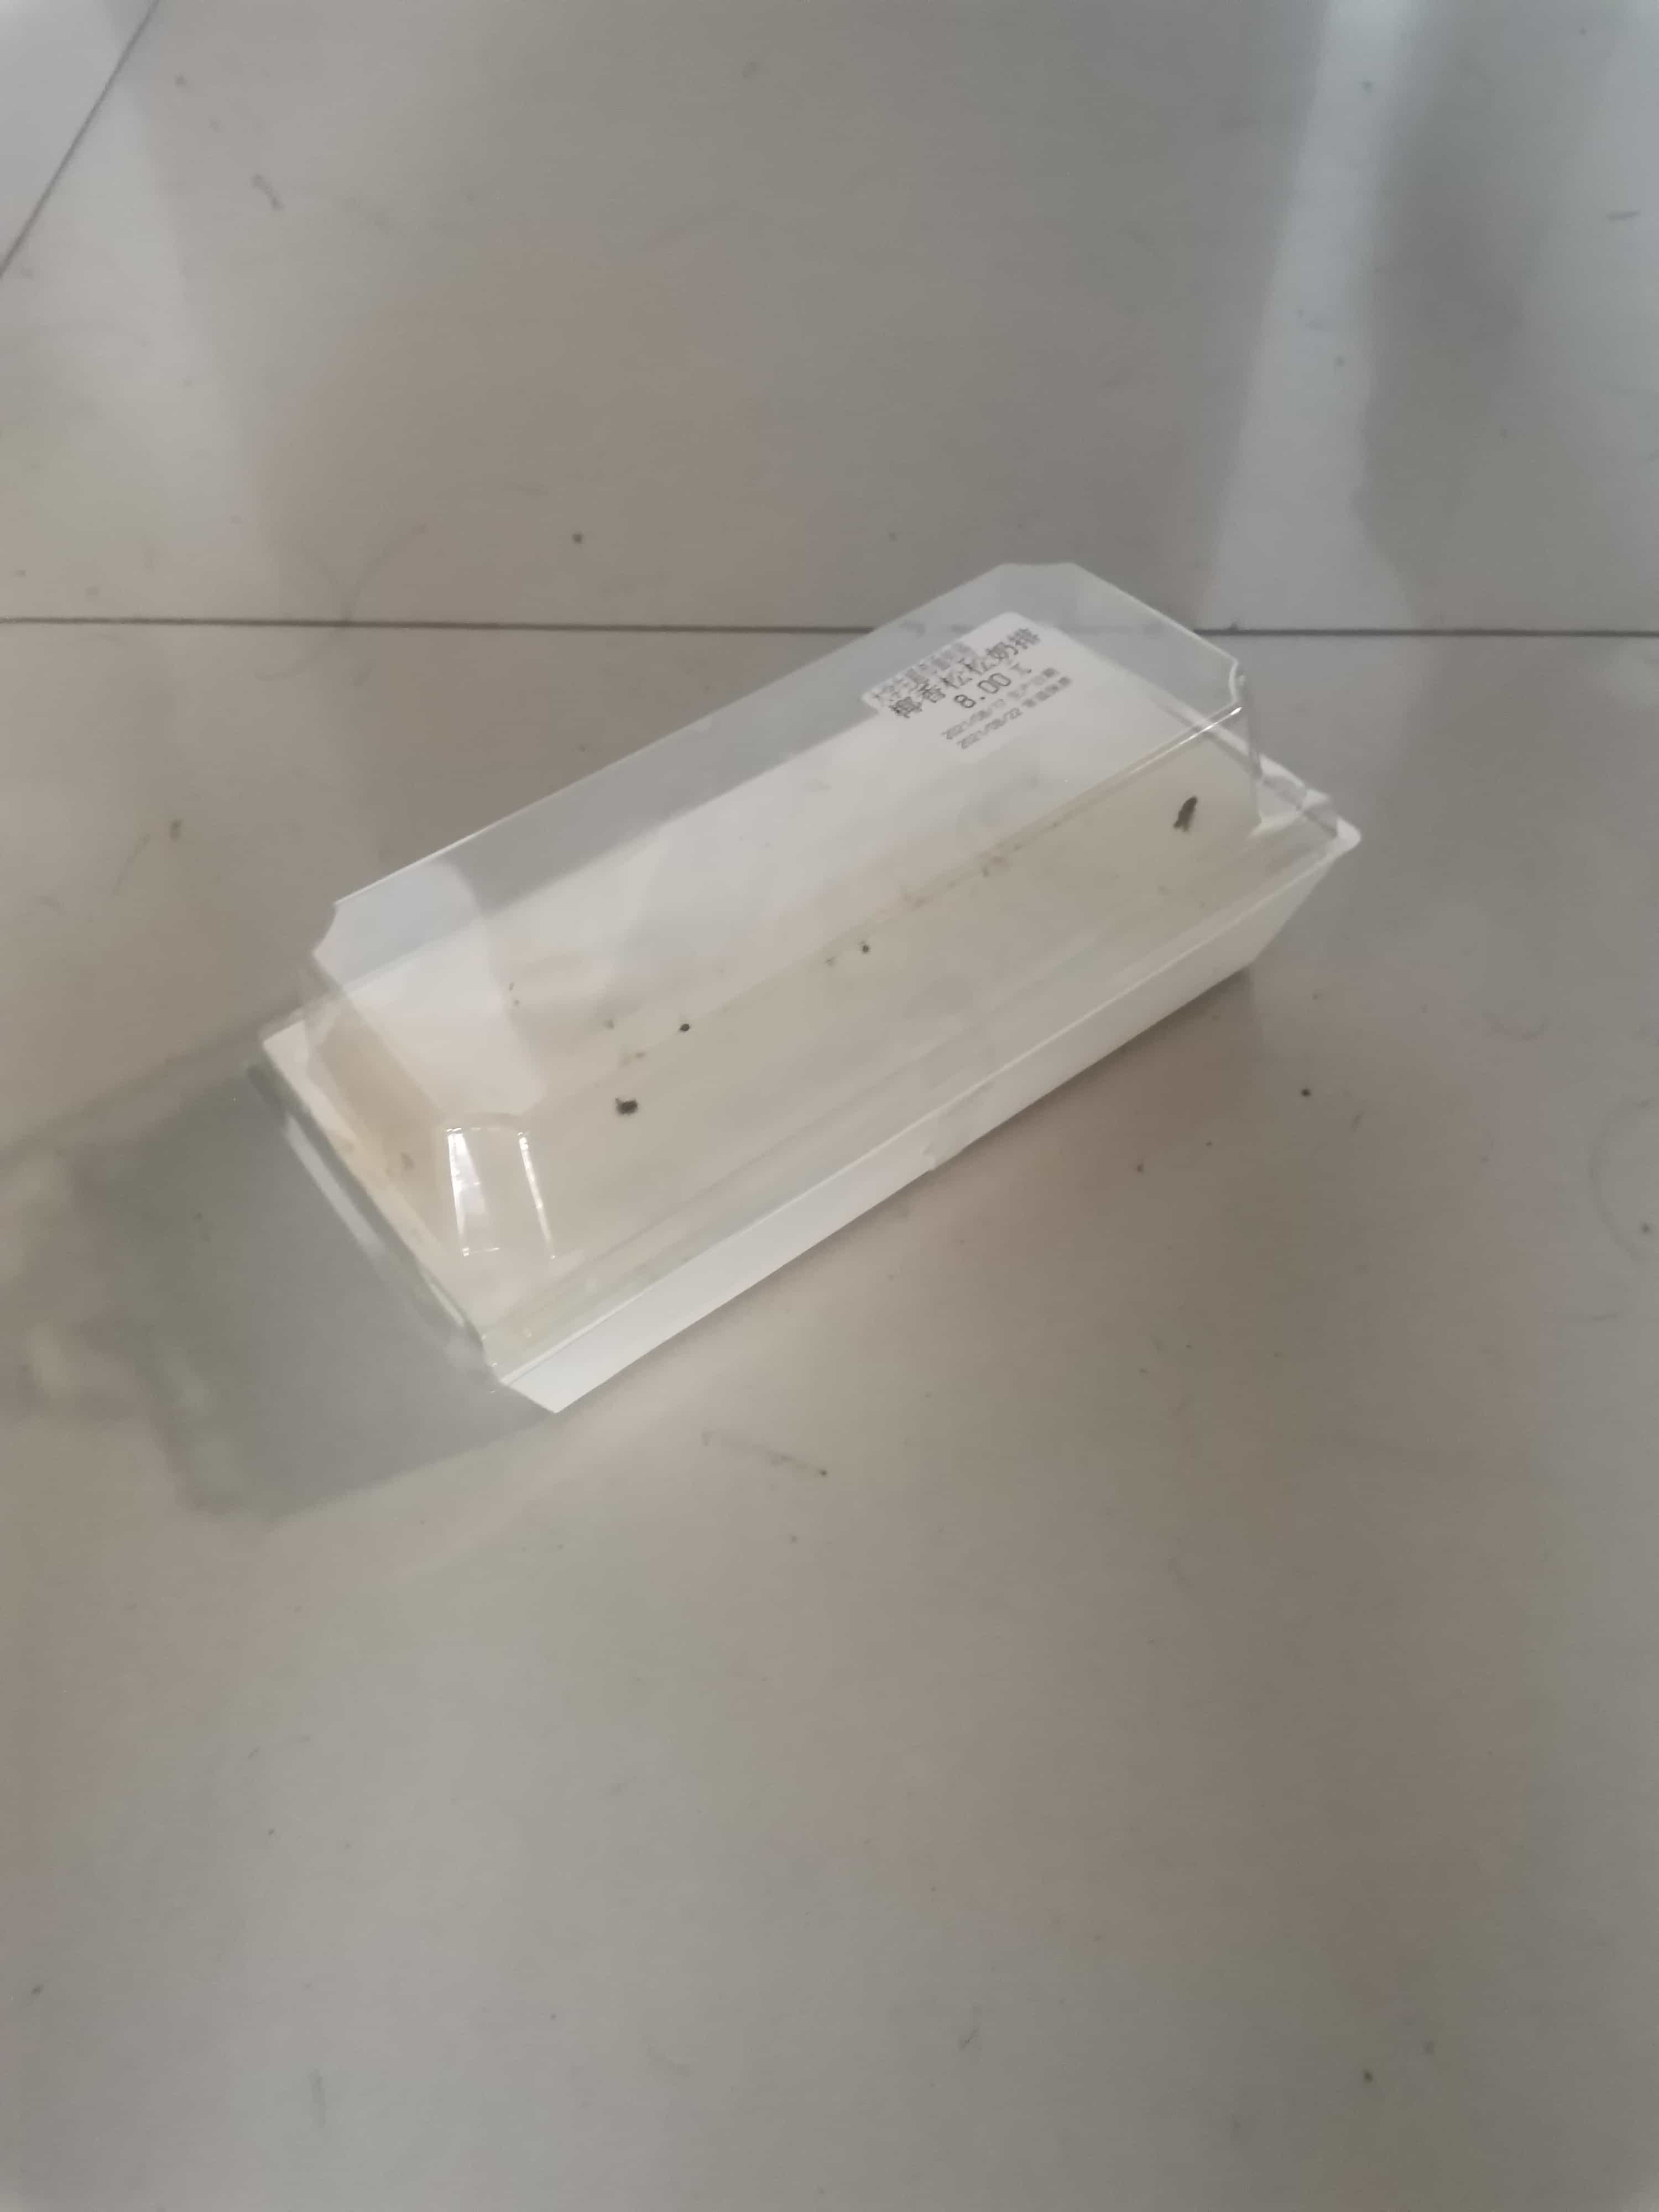cake_box: (237, 542, 1389, 1446)
